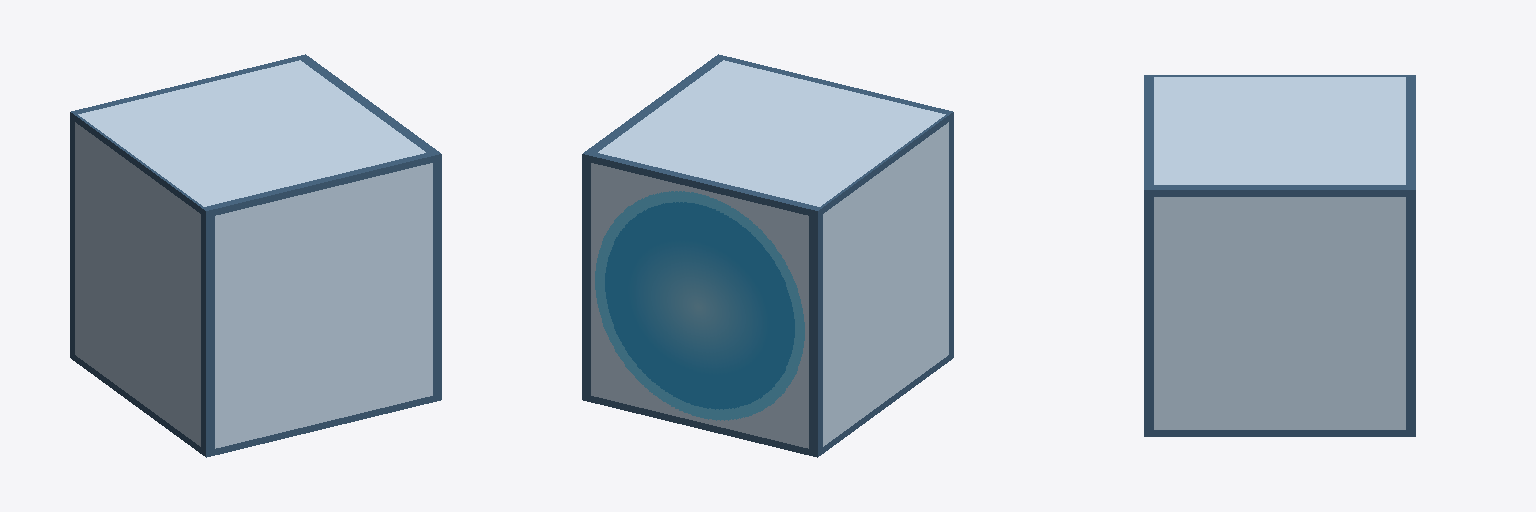
3 renders of one model, left to right at view 1: azimuth 30°, elevation 25°; view 2: azimuth 150°, elevation 25°; view 3: azimuth 270°, elevation 25°, orthographic.
Visible parts, largest first — view 1: Cube; view 2: Cube; view 3: Cube.
Part boxes in pixels (left/top/right/bottom): Cube: left=70, top=54, right=441, bottom=457; Cube: left=582, top=54, right=953, bottom=457; Cube: left=1144, top=75, right=1415, bottom=436.
Bounding box in the file's own units: 2 × 2 × 2.
Materials: 1 (1 with a texture image).